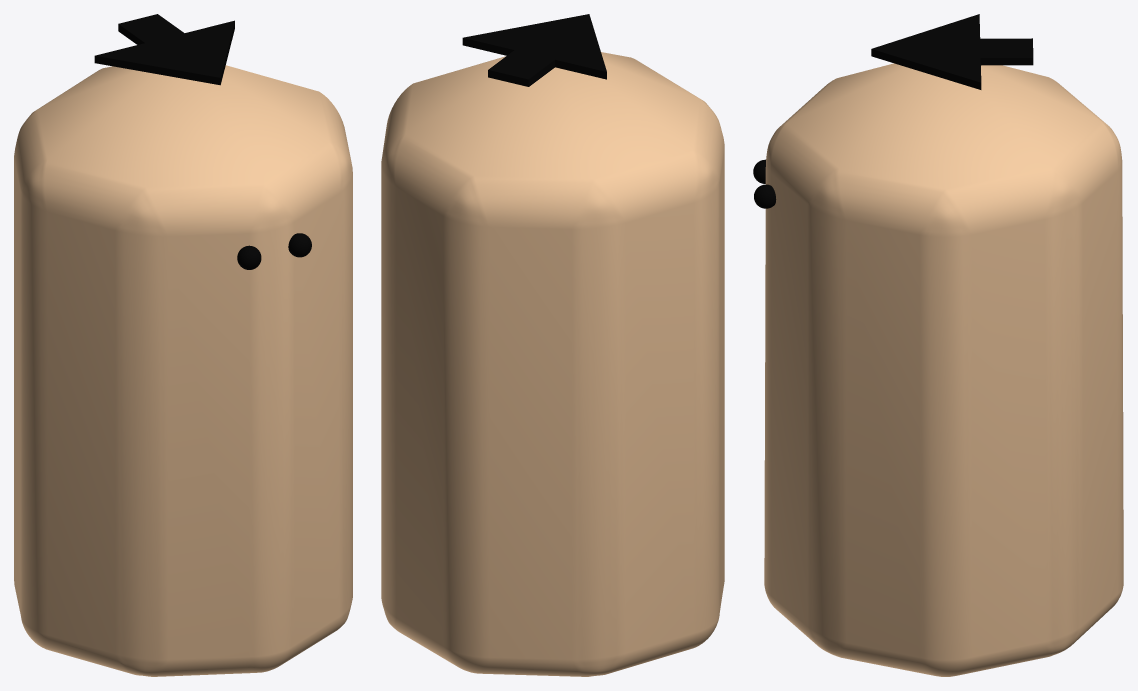
Rendered from 10newb.obj.
3 views of the same model, side by side, from view 1: azimuth 30°, elevation 25°; view 2: azimuth 150°, elevation 25°; view 3: azimuth 270°, elevation 25° (orthographic).
Parts seen in each view (by area): view 1: Cube.020_Cube.001, Cube.020_Cube.002; view 2: Cube.020_Cube.001, Cube.020_Cube.002; view 3: Cube.020_Cube.001, Cube.020_Cube.002.
Part boxes in pixels (x1,y1,x2,y2): Cube.020_Cube.001: [14, 65, 352, 676]; Cube.020_Cube.002: [94, 14, 311, 269]; Cube.020_Cube.001: [381, 52, 724, 676]; Cube.020_Cube.002: [462, 14, 606, 86]; Cube.020_Cube.001: [764, 63, 1123, 676]; Cube.020_Cube.002: [753, 14, 1033, 208].
Size of the model in its own units: 0.2565 by 0.4425 by 0.2644.
